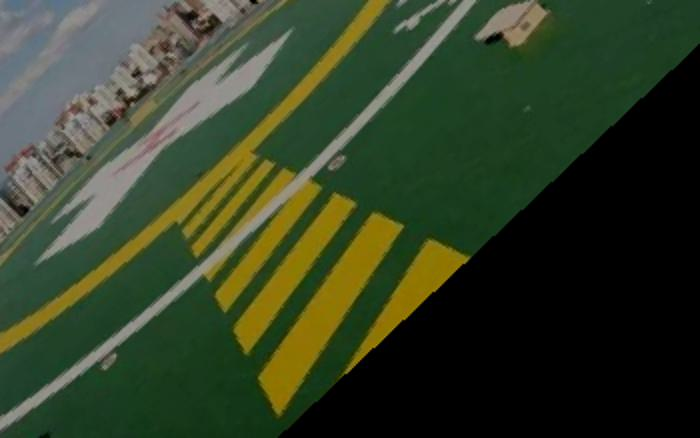Apron: (1, 1, 401, 358)
